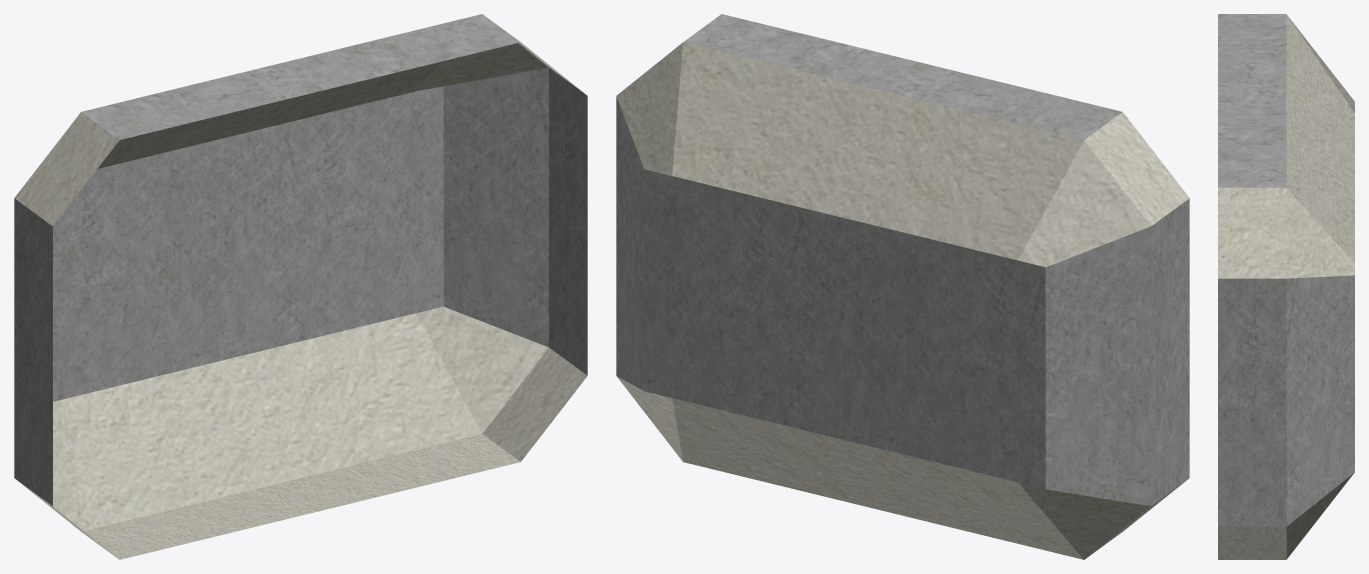
The model's file is end.fbx.
The picture shows the model from 3 angles, left to right: view 1: azimuth 30°, elevation 25°; view 2: azimuth 150°, elevation 25°; view 3: azimuth 270°, elevation 25°; orthographic projection. The views are drawn at different scales.
Visible parts, largest first — view 1: end_cap; view 2: end_cap; view 3: end_cap.
Boxes of the visible parts, left/top/right/bottom form: end_cap: left=14, top=14, right=587, bottom=559; end_cap: left=616, top=14, right=1189, bottom=559; end_cap: left=1218, top=14, right=1354, bottom=559.
Bounding box in the file's own units: 4 × 3 × 1.
